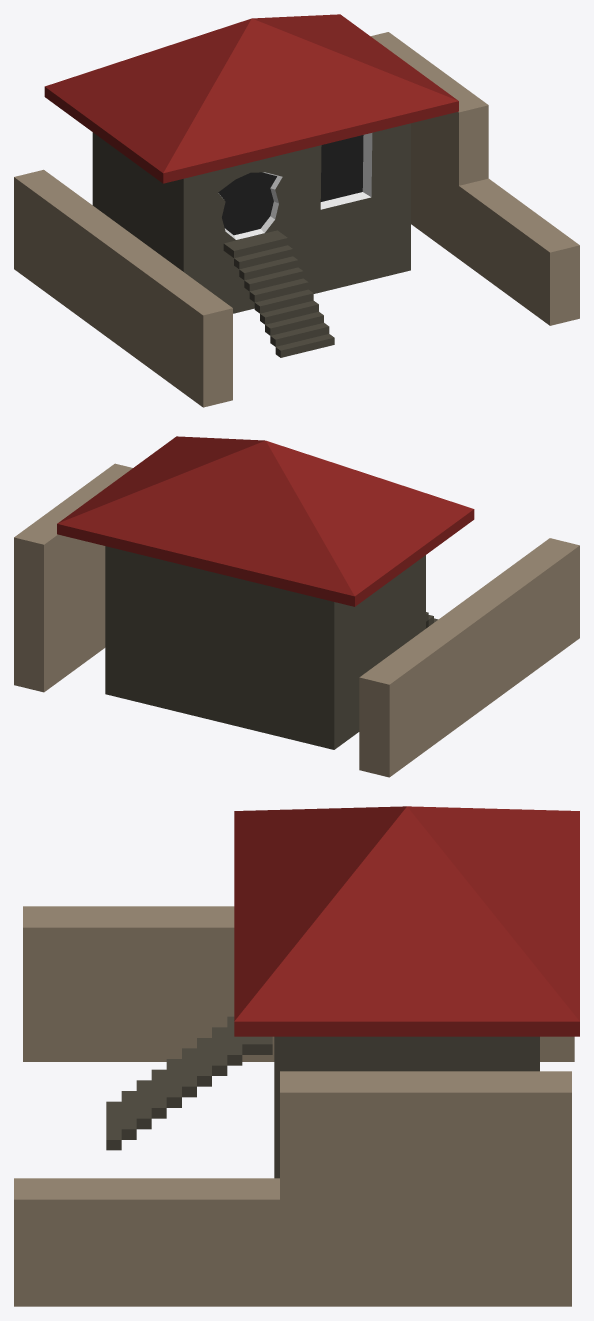
File: loja_7.fbx
3 views of the same model, one above another, from view 1: azimuth 30°, elevation 25°; view 2: azimuth 150°, elevation 25°; view 3: azimuth 270°, elevation 25° (orthographic). The views are drawn at different scales.
Parts seen in each view (by area): view 1: Cube; view 2: Cube; view 3: Cube.
Boxes of the visible parts, left/top/right/bottom form: Cube: left=14, top=14, right=579, bottom=407; Cube: left=14, top=436, right=579, bottom=777; Cube: left=14, top=806, right=579, bottom=1306.
Size of the model in its own units: 2500 by 1590 by 2248.
